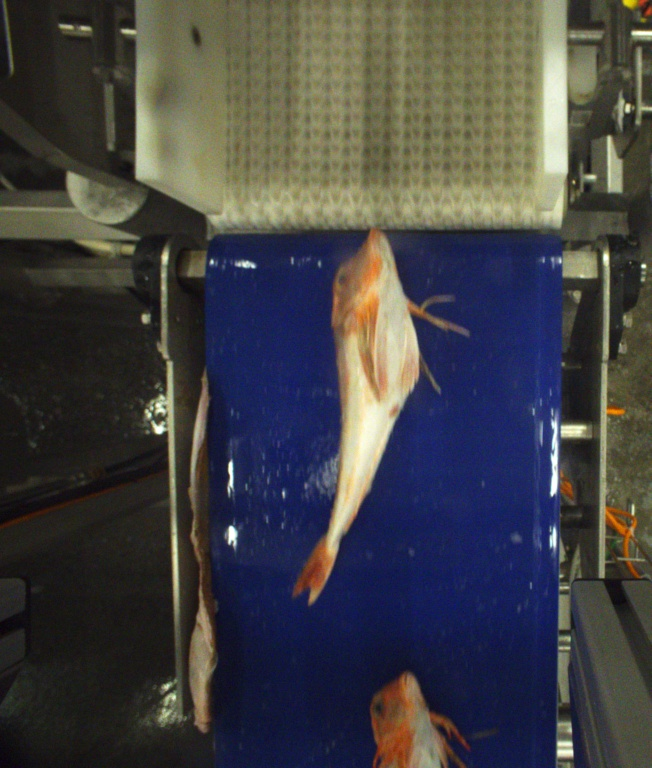GUU: (292, 227, 465, 604)
